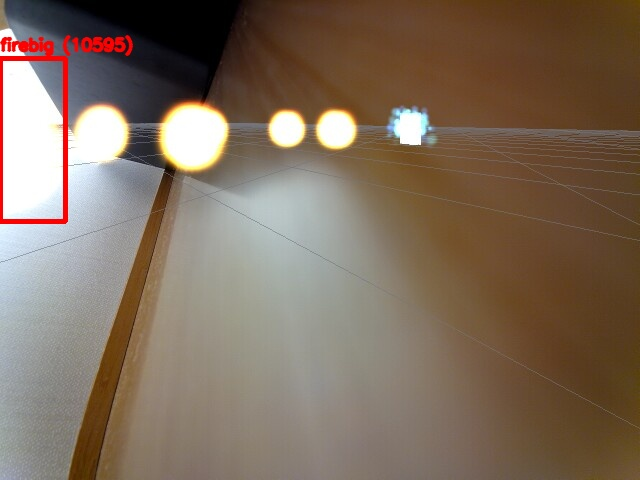firebig: (0, 58, 65, 221)
